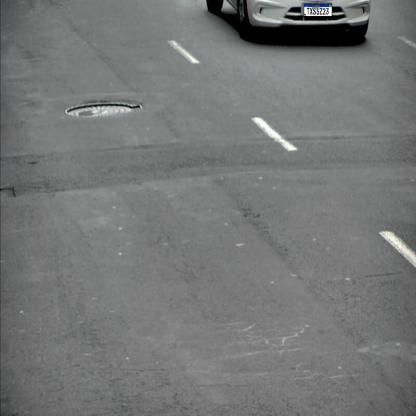PlacaM: (304, 4, 332, 16)
